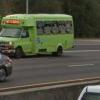Bus: (2, 7, 77, 58)
